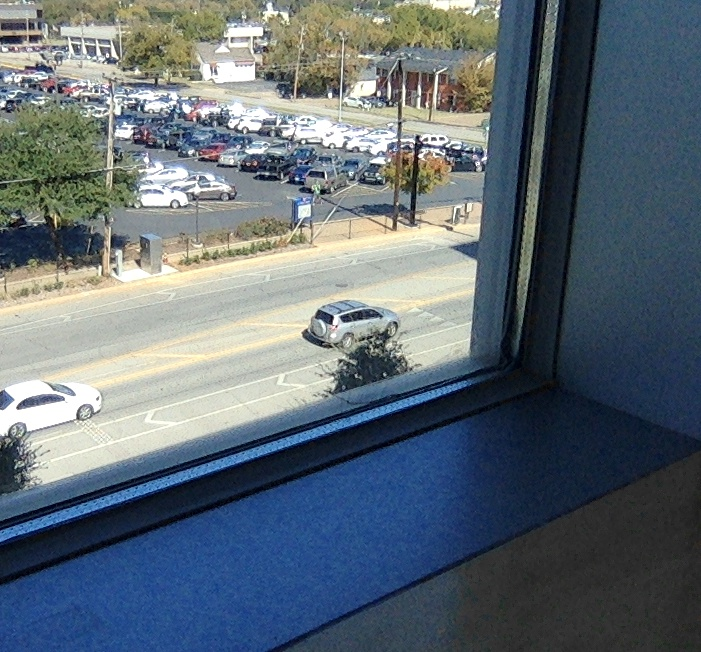car: (300, 300, 401, 352)
